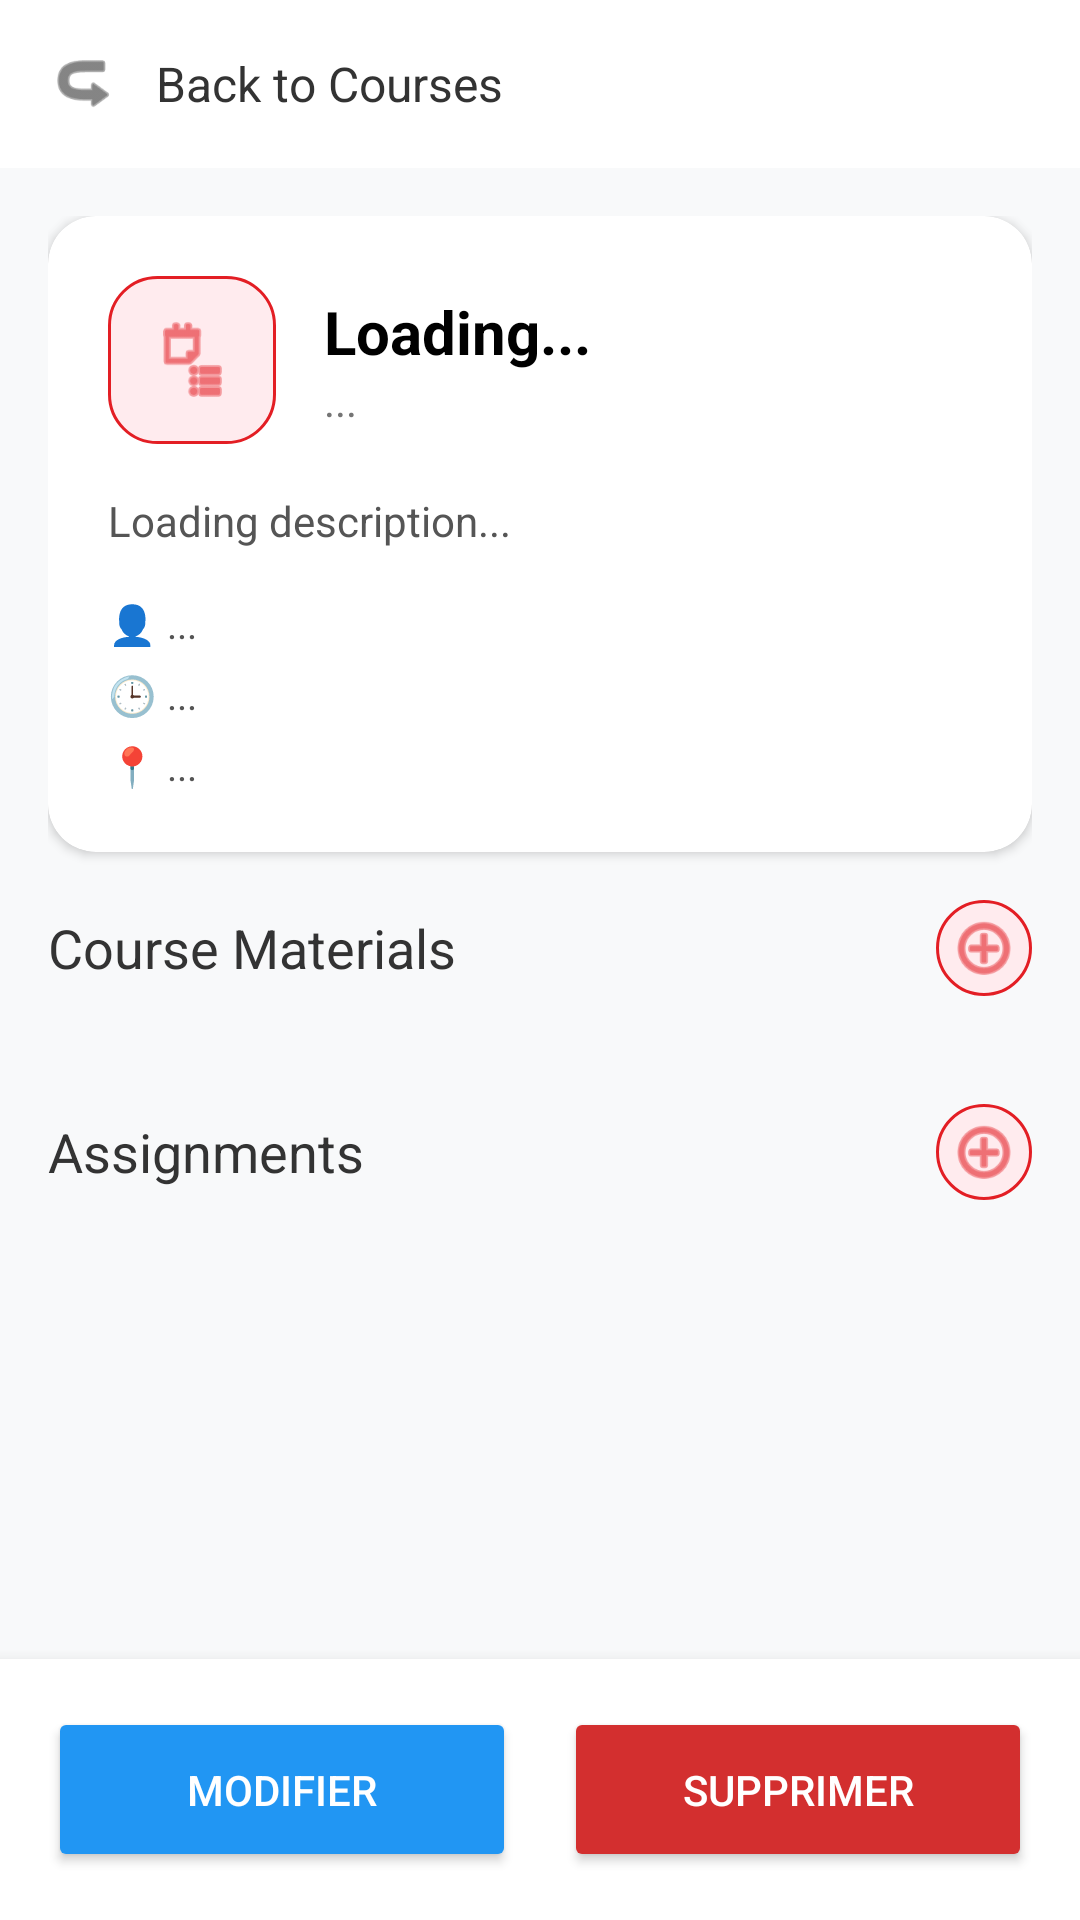

Icons on this 1080px x 1920px Android screen, each with its box as box=[x1, y1, x2, y2]:
add: box=[936, 900, 1032, 996], box=[936, 1104, 1032, 1200]
agenda: box=[163, 322, 222, 397]
